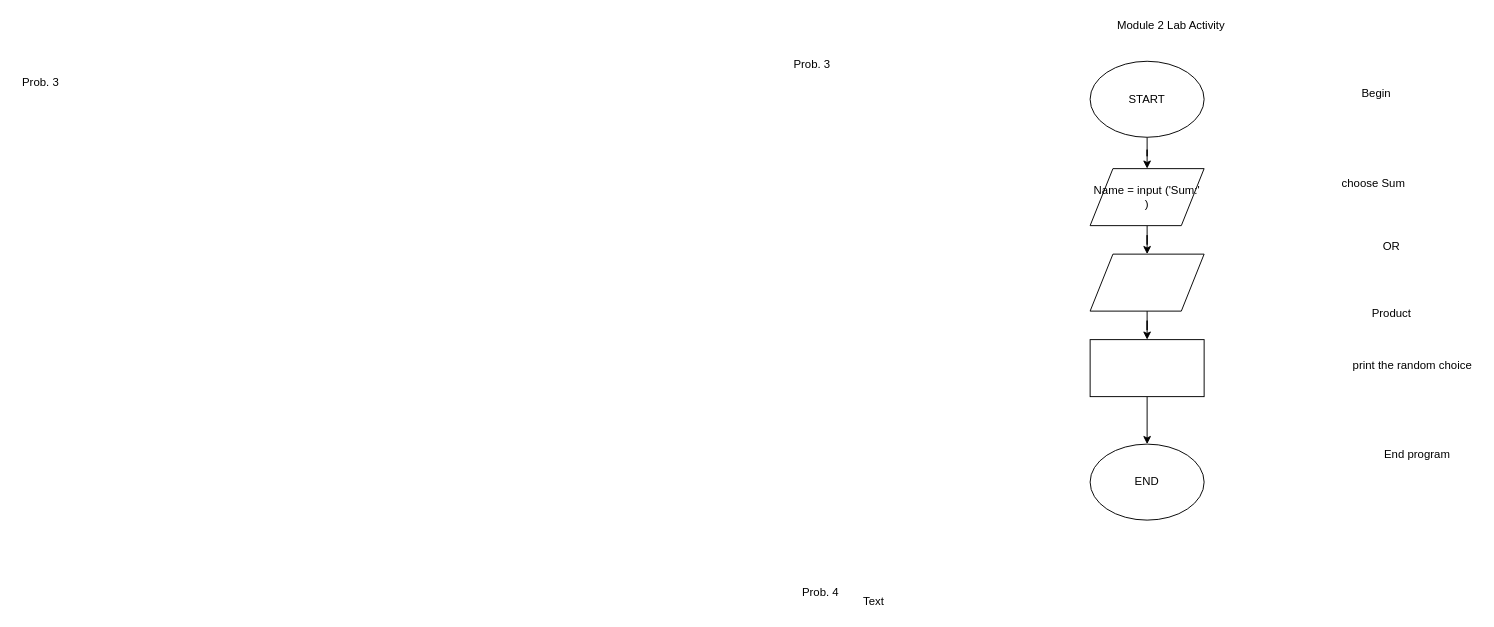
Some shapes in this 1494 by 627 pixel diagram are drawn without their labels. Each missing label, with the centre of its shape:
"Name =input ( 'Product' )" goes at (1146,282).
"print (random.choice (string)" goes at (1146,368).
